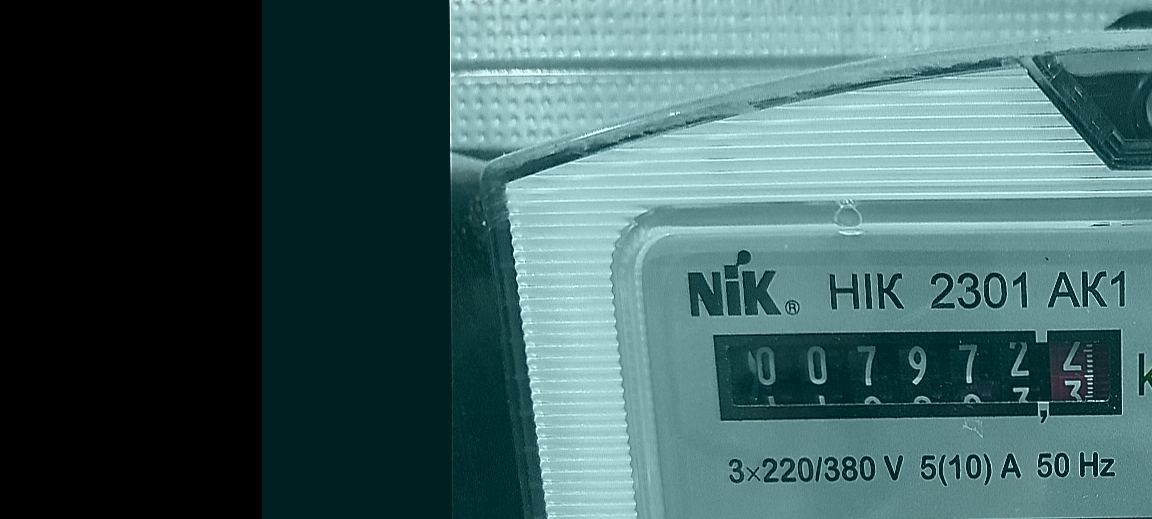0: (756, 344, 782, 385), (808, 343, 832, 385)
2: (1011, 339, 1034, 377), (1063, 339, 1086, 373)
3: (1065, 376, 1087, 402)
7: (958, 340, 984, 386), (857, 342, 882, 387)
9: (908, 342, 931, 385)
screen: (700, 316, 1142, 434)
